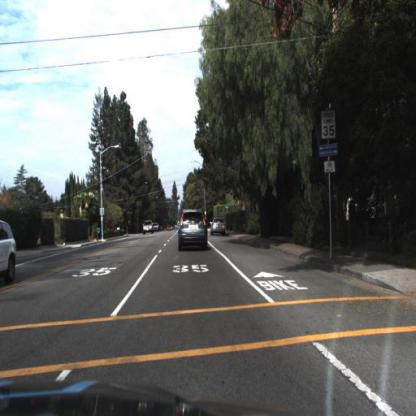car: (174, 202, 214, 257), (208, 207, 231, 240), (210, 217, 229, 240), (141, 218, 156, 236), (143, 220, 156, 238)
